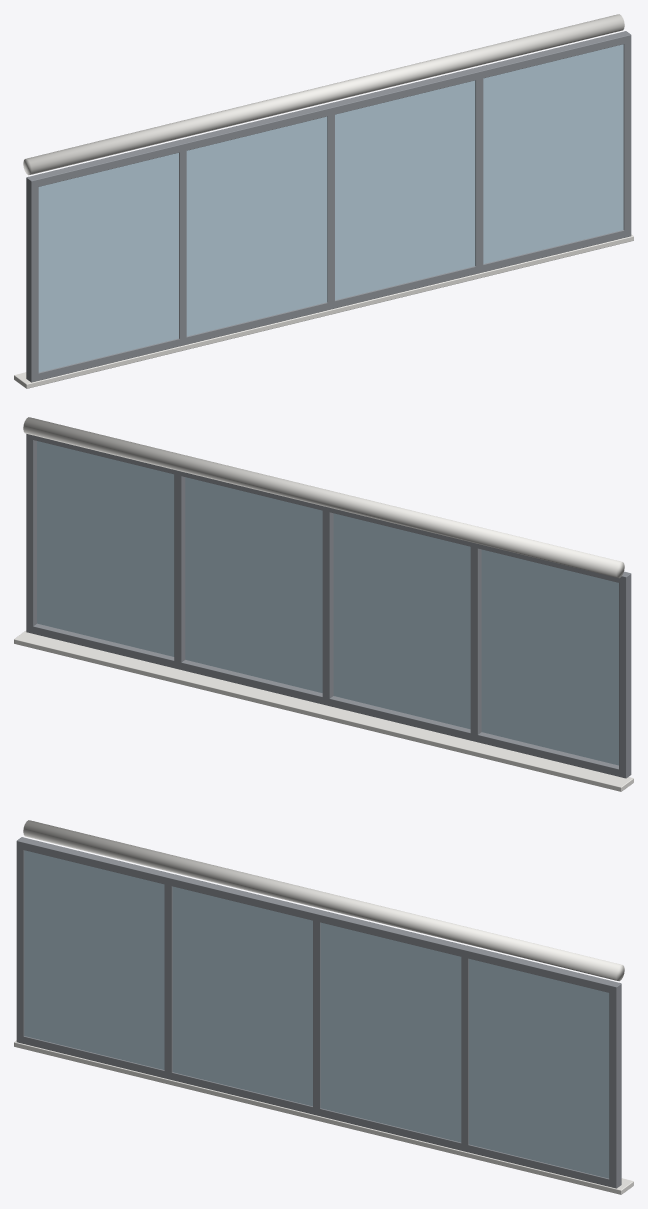
Rendered from trabajo.ventana_grande.fbx.
The picture shows the model from 3 angles, top to bottom: view 1: azimuth 30°, elevation 25°; view 2: azimuth 150°, elevation 25°; view 3: azimuth 330°, elevation 25°; orthographic projection.
Parts seen in each view (by area): view 1: Vidrio, Persiana, Marco.001, Marco, Alfeizar, Montante.004, Montante, Montante.001, Montante.003, Montante.002; view 2: Vidrio, Persiana, Alfeizar, Marco, Marco.001, Montante.004, Montante.001, Montante.002, Montante.003, Montante; view 3: Vidrio, Persiana, Marco.001, Marco, Alfeizar, Montante, Montante.003, Montante.004, Montante.001, Montante.002.
Part boxes in pixels (x1,y1,x2,y2): Vidrio: (38,44,623,372); Persiana: (23,14,624,175); Marco.001: (26,31,631,188); Marco: (26,229,631,382); Alfeizar: (14,234,633,388); Montante.004: (26,176,38,382); Montante: (623,42,631,235); Montante.001: (475,78,483,269); Montante.003: (179,140,186,343); Montante.002: (327,113,334,308); Vidrio: (37,441,618,765); Persiana: (23,417,624,578); Alfeizar: (14,630,633,791); Marco: (26,623,631,778); Marco.001: (26,434,631,584); Montante.004: (619,572,631,777); Montante.001: (174,470,185,664); Montante.002: (322,507,333,698); Montante.003: (470,546,481,734); Montante: (26,435,36,632); Vidrio: (24,850,609,1178); Persiana: (23,820,624,981); Marco.001: (16,837,621,994); Marco: (16,1035,621,1188); Alfeizar: (14,1040,633,1194); Montante: (609,982,621,1188); Montante.003: (164,877,172,1078); Montante.004: (16,842,24,1043); Montante.001: (461,945,472,1152); Montante.002: (313,910,323,1114).
Bounding box in the file's own units: 3.28 × 1.15 × 0.13.
